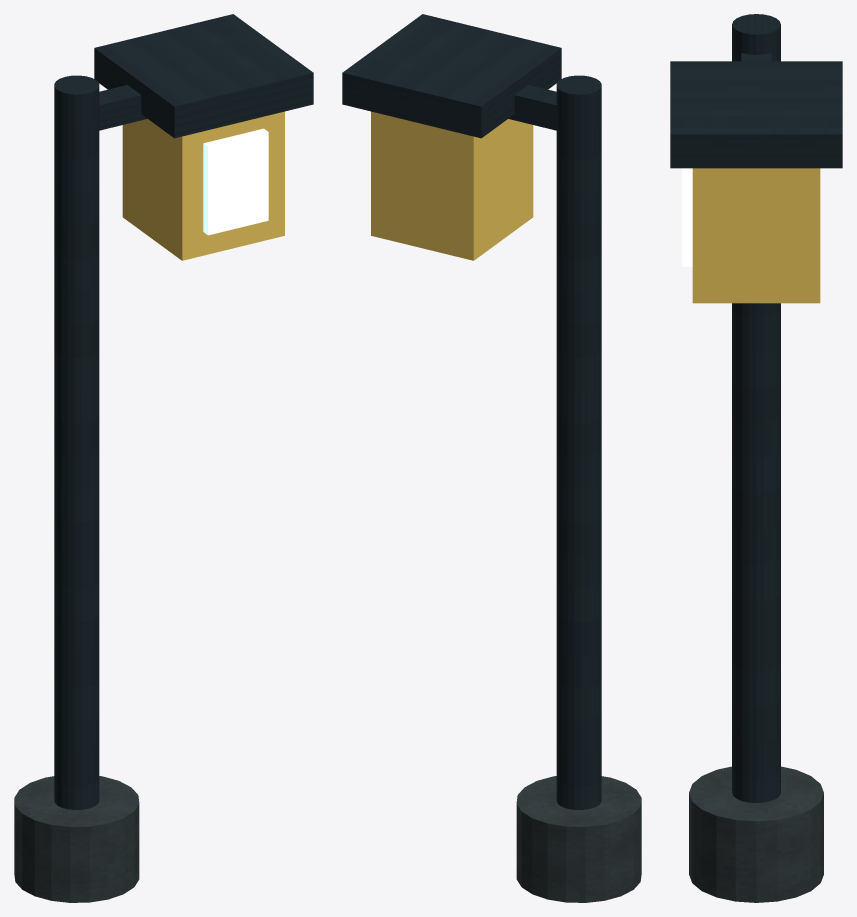
File: bp_decorstreetlamp.glb
3 views of the same model, side by side, from view 1: azimuth 30°, elevation 25°; view 2: azimuth 150°, elevation 25°; view 3: azimuth 270°, elevation 25° (orthographic). The views are drawn at different scales.
Visible parts, largest first — view 1: Pole, Roof, Lantern, Base, LanternCore, Arm; view 2: Pole, Lantern, Roof, Base, Arm; view 3: Pole, Roof, Lantern, Base, LanternCore.
Boxes of the visible parts, <box> form: Pole: <box>54,75,99,809</box>; Roof: <box>94,14,313,138</box>; Lantern: <box>122,111,284,260</box>; Base: <box>14,776,139,902</box>; LanternCore: <box>203,128,268,235</box>; Arm: <box>99,85,147,130</box>; Pole: <box>556,75,601,809</box>; Lantern: <box>371,111,533,260</box>; Roof: <box>342,14,561,138</box>; Base: <box>516,776,641,902</box>; Arm: <box>508,85,556,130</box>; Pole: <box>732,14,780,802</box>; Roof: <box>670,61,842,168</box>; Lantern: <box>692,168,820,303</box>; Base: <box>689,766,823,902</box>; LanternCore: <box>682,168,692,266</box>.
Size of the model in its own units: 0.83 by 2.5 by 0.46.
Materials: 4 (2 with a texture image).
